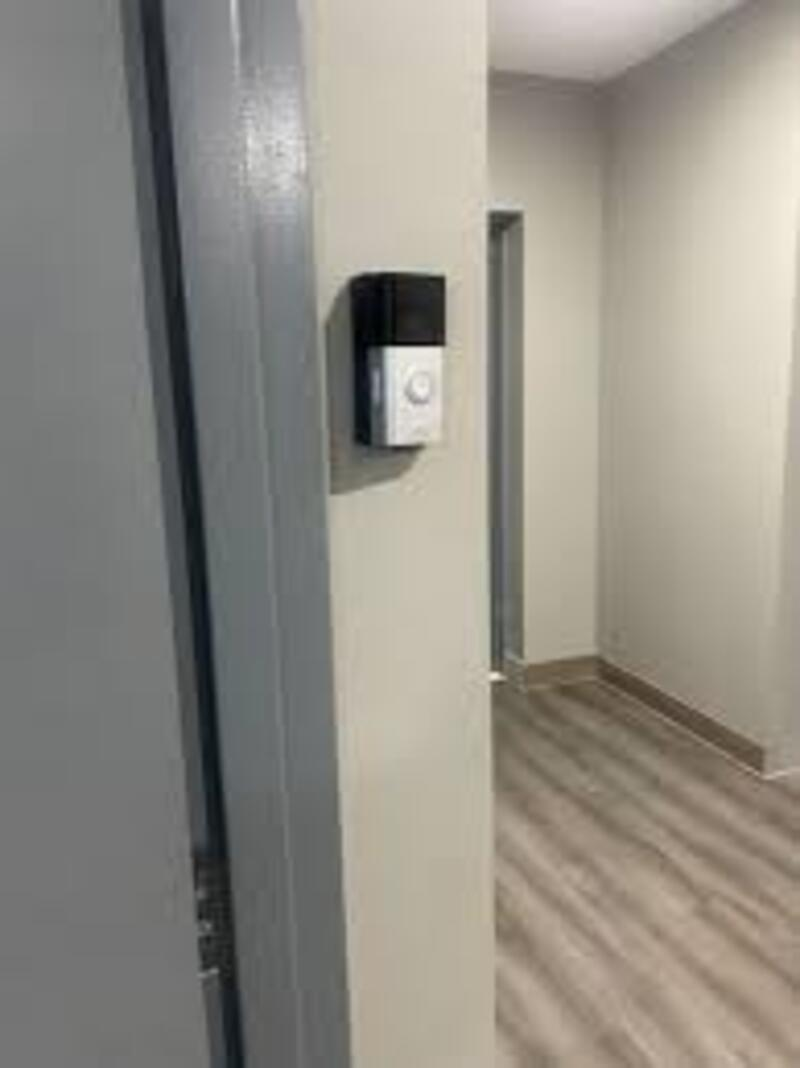doorbell: (342, 255, 456, 471)
